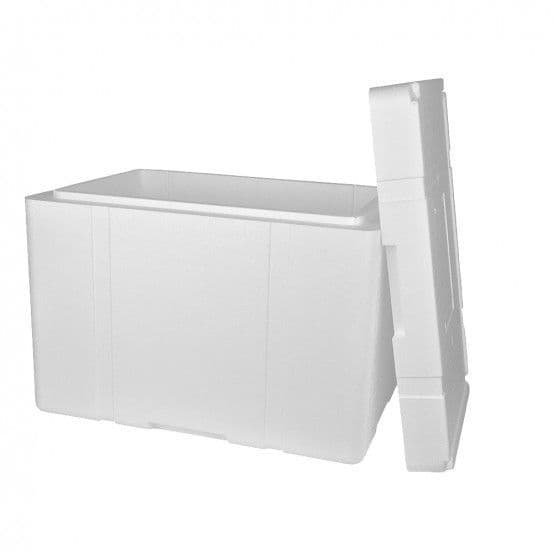Boxes: (26, 79, 470, 472)
